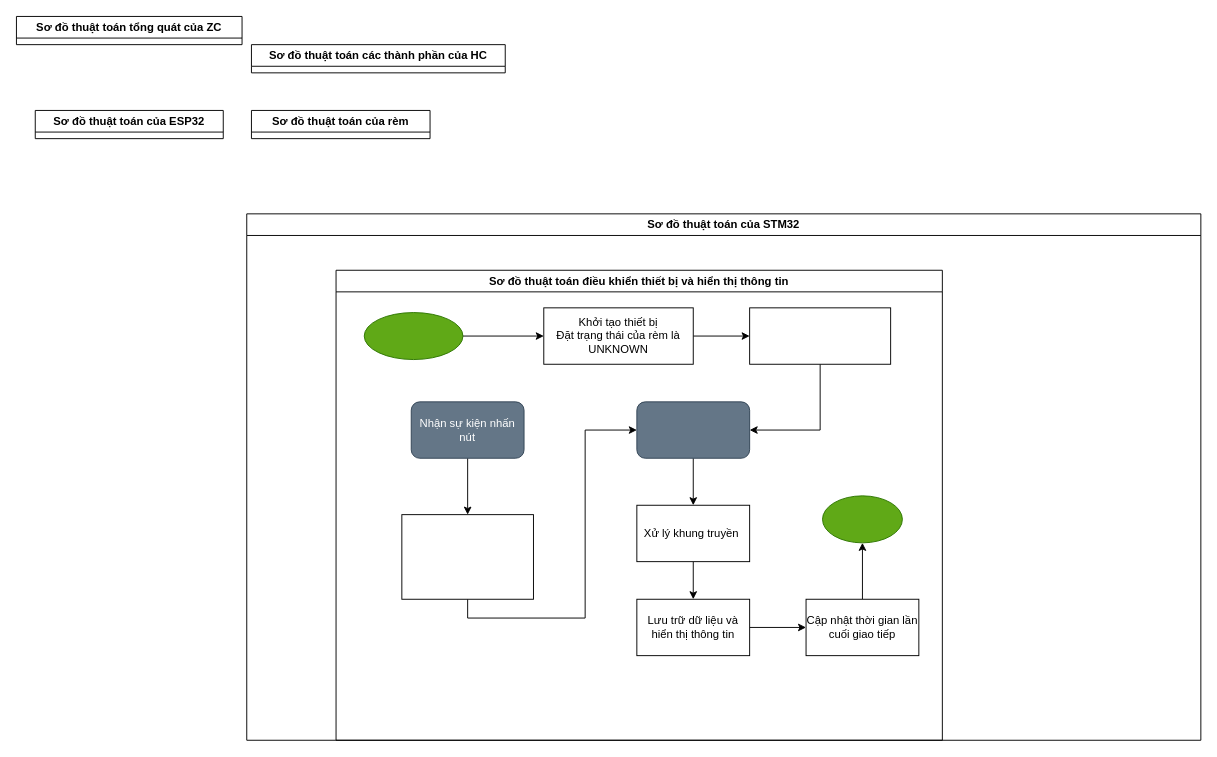
Image size: 1217x757. Some labels were removed from this diagram. The shapes that lost their labels are listed below. From the top down, each one's centre as x and y in pixels, then its label:
the point at 413,336: BEGIN
the point at 820,335: Gửi khung truyền đồng bộ trạng thái với rèm
the point at 693,429: Nhận khung truyền từ USART
the point at 862,519: END
the point at 467,556: Gửi khung truyền ứng với sự kiện và đợi khung truyền phản hồi từ rèm
